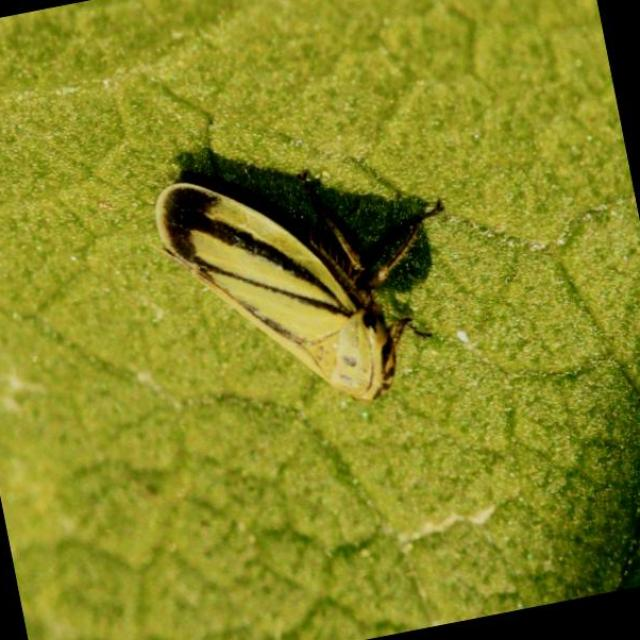green leaf hopper: (156, 180, 441, 401)
